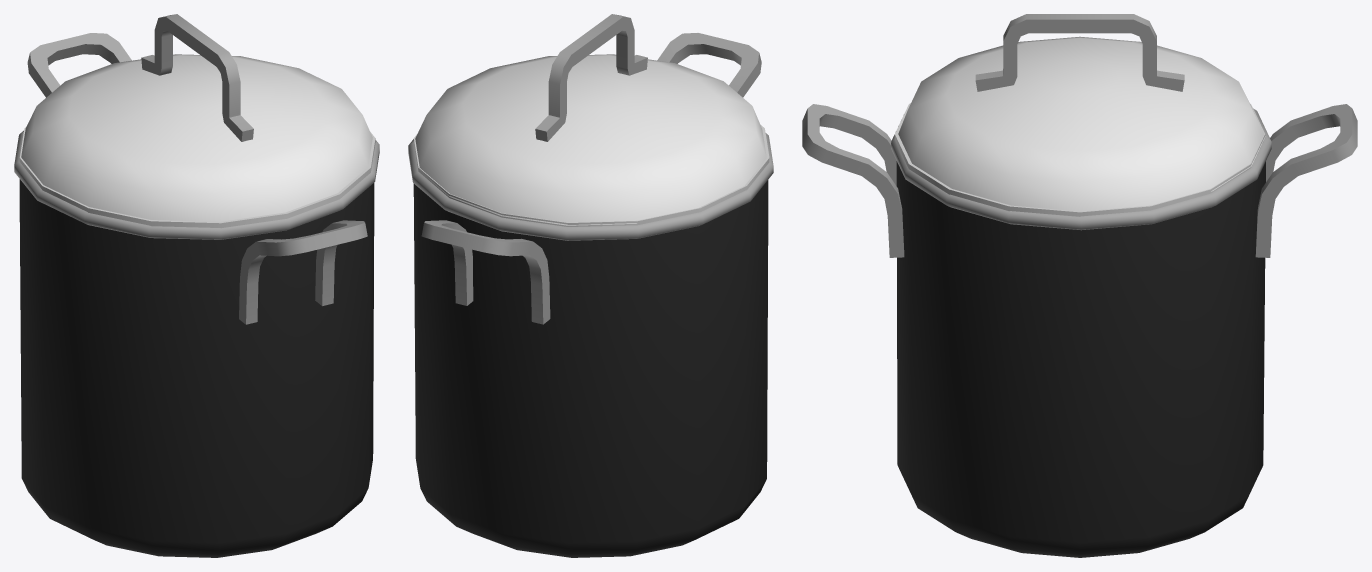
File: StockPot_01.fbx
3 renders of one model, left to right at view 1: azimuth 30°, elevation 25°; view 2: azimuth 150°, elevation 25°; view 3: azimuth 270°, elevation 25°, orthographic. The views are drawn at different scales.
Parts seen in each view (by area): view 1: StockPot_01, StockPot_01_Lid; view 2: StockPot_01, StockPot_01_Lid; view 3: StockPot_01, StockPot_01_Lid.
Boxes of the visible parts, x1=… form: StockPot_01: x1=14, y1=33, x2=379, y2=557; StockPot_01_Lid: x1=19, y1=14, x2=375, y2=228; StockPot_01: x1=408, y1=33, x2=773, y2=557; StockPot_01_Lid: x1=414, y1=14, x2=769, y2=226; StockPot_01: x1=802, y1=104, x2=1357, y2=557; StockPot_01_Lid: x1=894, y1=14, x2=1265, y2=216.
Size of the model in its own units: 0.2463 by 0.3397 by 0.3593.
